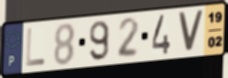2: (117, 16, 141, 59)
4: (151, 13, 171, 57)
8: (53, 21, 78, 67)
9: (88, 20, 111, 62)
L: (24, 27, 47, 69)
V: (177, 10, 206, 54)
